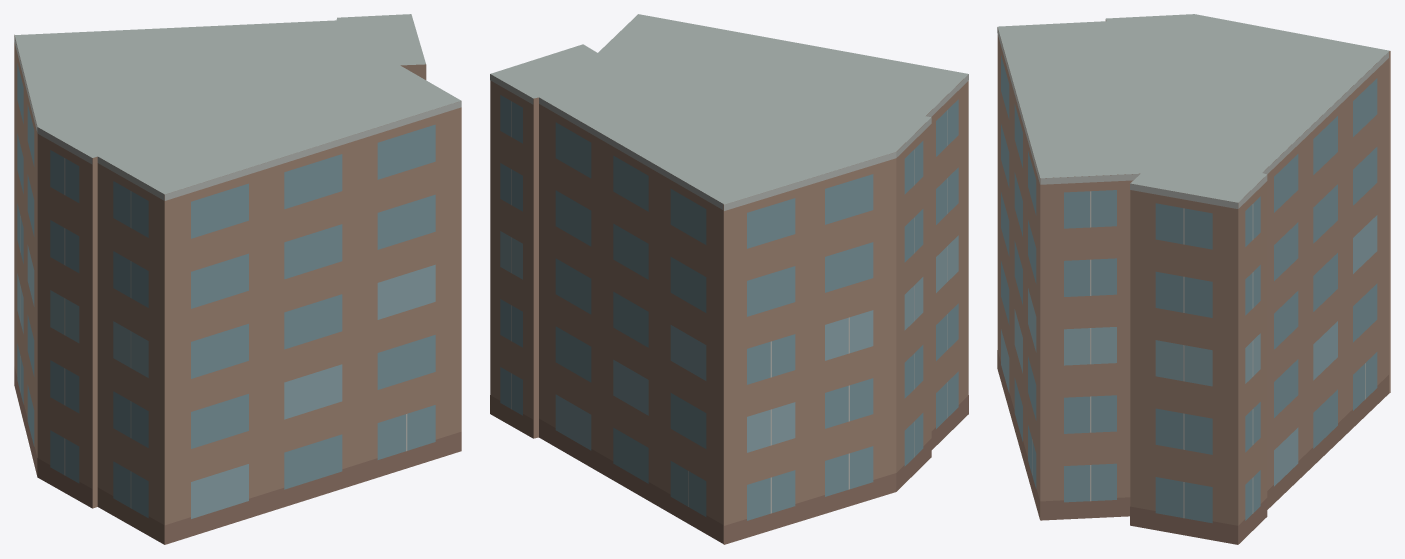
File: survey-upis-32704267.glb
3 views of the same model, side by side, from view 1: azimuth 30°, elevation 25°; view 2: azimuth 150°, elevation 25°; view 3: azimuth 270°, elevation 25° (orthographic). The views are drawn at different scales.
Parts seen in each view (by area): view 1: survey-upis-32704267.tmp; view 2: survey-upis-32704267.tmp; view 3: survey-upis-32704267.tmp.
Part boxes in pixels (bbox=[...]): survey-upis-32704267.tmp: bbox=[14, 14, 461, 544]; survey-upis-32704267.tmp: bbox=[490, 14, 968, 544]; survey-upis-32704267.tmp: bbox=[997, 14, 1390, 544].
Size of the model in its own units: 15.39 by 13 by 13.54.
